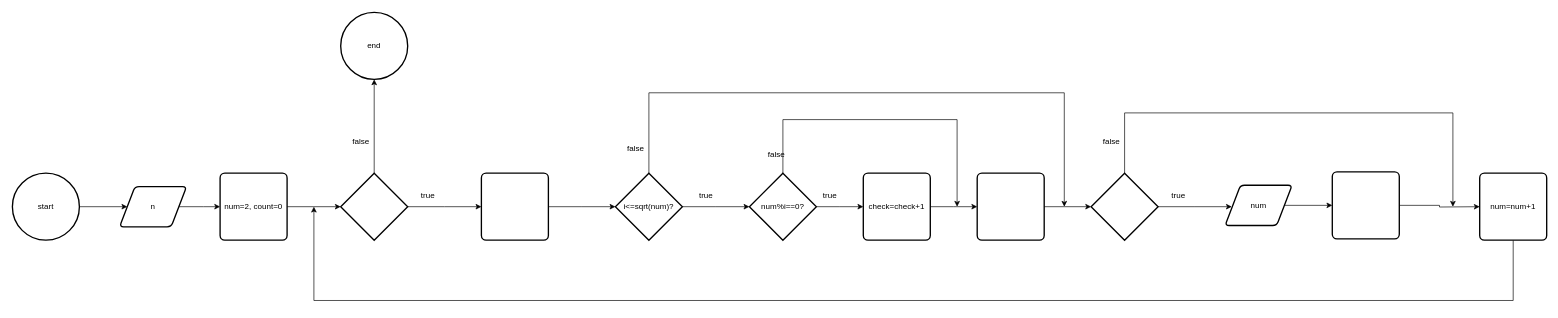
The diagram is 1558 pixels wide and 318 high, and some of its shapes have lost their labels. Each missing label, with the box of its shape:
check=0,i=2: (480, 172, 549, 241)
check==0?: (1090, 172, 1158, 241)
count<n?: (340, 172, 408, 241)
count=count+1: (1331, 171, 1400, 239)
i=i+1: (976, 172, 1045, 241)
